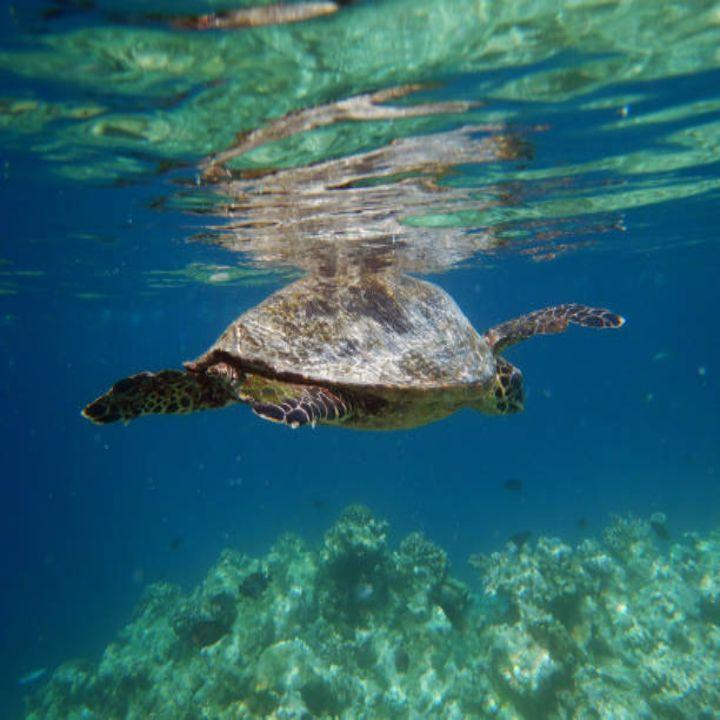Dead Coral: (0, 505, 719, 719)
